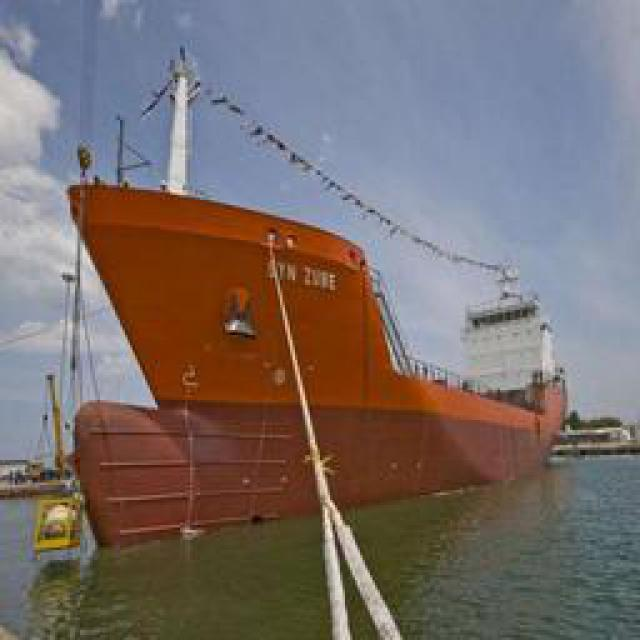Ship: (55, 170, 580, 535)
